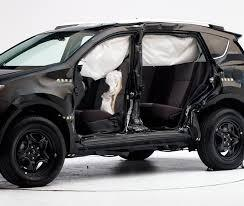doorouter-dent: (139, 23, 208, 129), (60, 33, 127, 141)
fender-dent: (8, 69, 65, 103)
